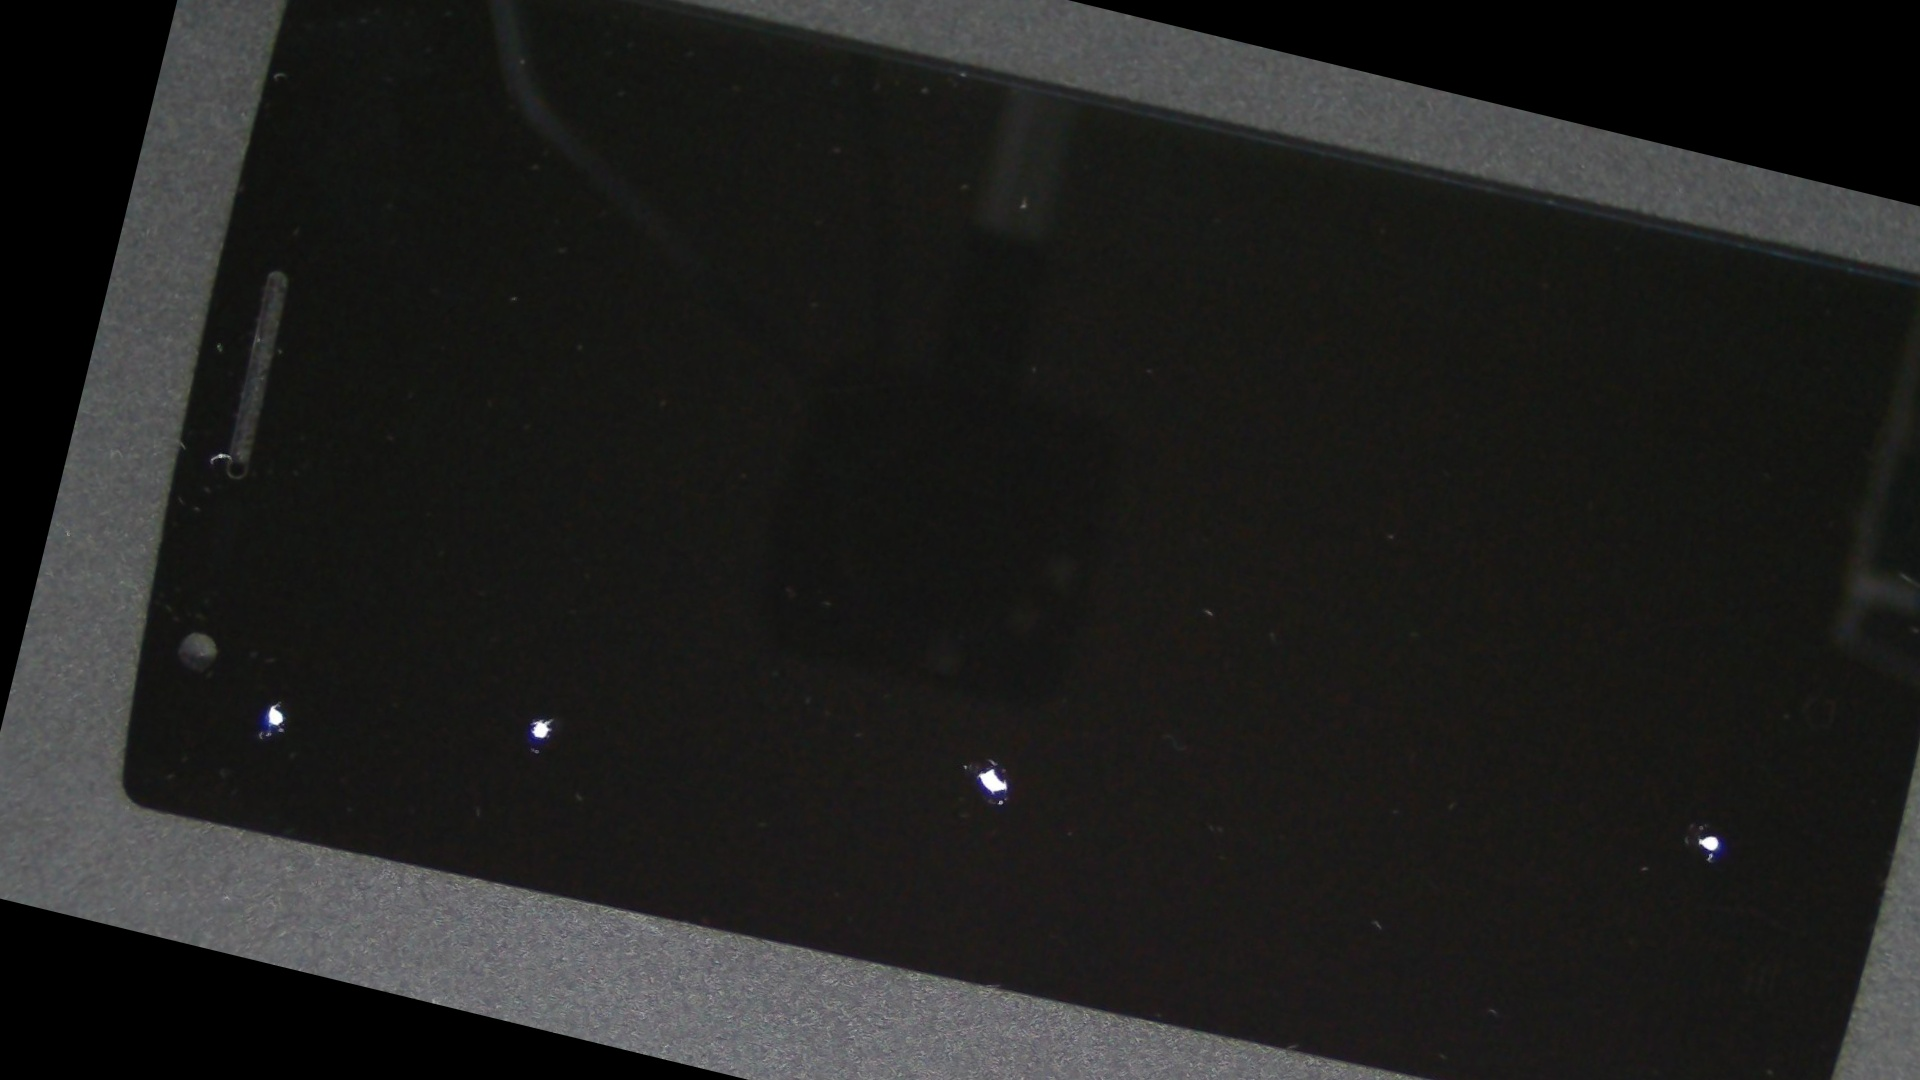oil: (433, 277, 1547, 1080), (443, 295, 1578, 1080), (814, 315, 1920, 1080), (220, 257, 903, 1076), (215, 270, 882, 1072), (91, 248, 508, 982)
